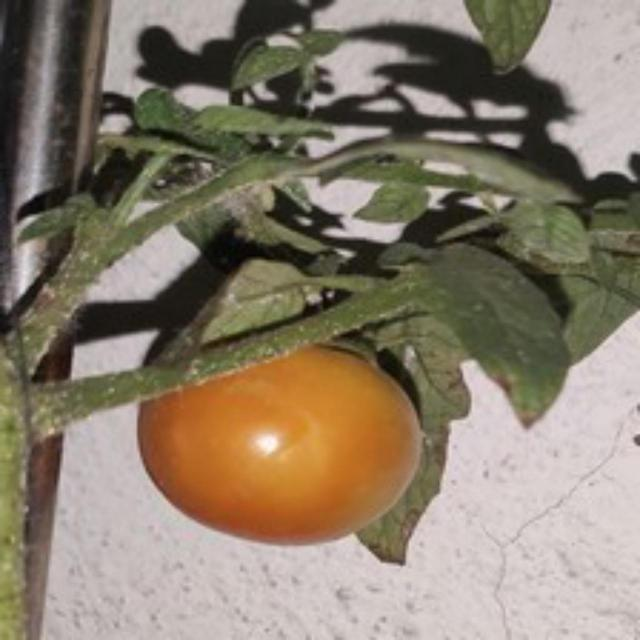tomato: (132, 340, 446, 545)
